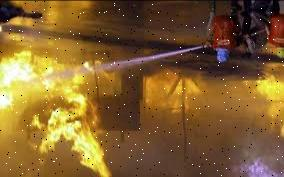fire: (0, 53, 111, 176), (249, 70, 284, 137)
